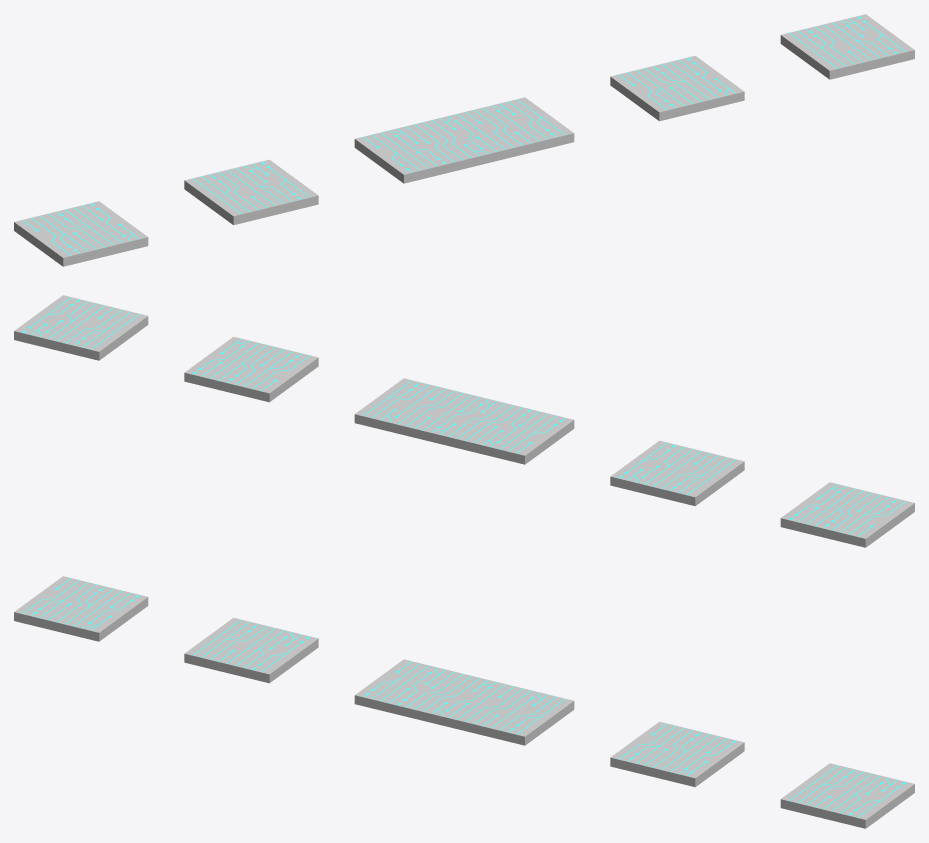
The model's file is floor_metallic6.glb.
3 views of the same model, one above another, from view 1: azimuth 30°, elevation 25°; view 2: azimuth 150°, elevation 25°; view 3: azimuth 330°, elevation 25° (orthographic).
Visible parts, largest first — view 1: Cube.013, Plane.036; view 2: Cube.013, Plane.036; view 3: Cube.013, Plane.036.
Part boxes in pixels (bbox=[...]): Cube.013: bbox=[14, 14, 914, 266]; Plane.036: bbox=[22, 16, 906, 255]; Cube.013: bbox=[14, 295, 914, 547]; Plane.036: bbox=[22, 297, 906, 536]; Cube.013: bbox=[14, 576, 914, 828]; Plane.036: bbox=[22, 578, 906, 817].
Bounding box in the file's own units: 200 × 2.01 × 20.
